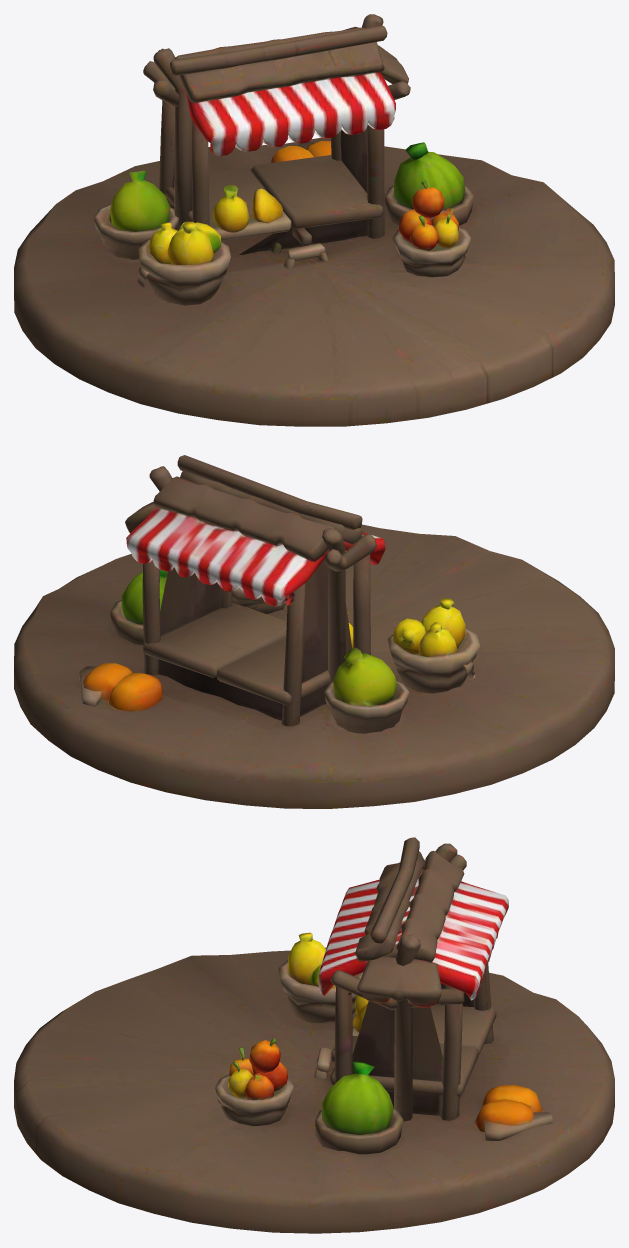
File: base-bazaar.10c14816.glb
3 views of the same model, one above another, from view 1: azimuth 30°, elevation 25°; view 2: azimuth 150°, elevation 25°; view 3: azimuth 270°, elevation 25° (orthographic).
Parts seen in each view (by area): view 1: tripo_node_353760da-9e7a-4d4c-81be-2a784ef13b8a; view 2: tripo_node_353760da-9e7a-4d4c-81be-2a784ef13b8a; view 3: tripo_node_353760da-9e7a-4d4c-81be-2a784ef13b8a.
Part boxes in pixels (box(x1,y1,x2,y2)): tripo_node_353760da-9e7a-4d4c-81be-2a784ef13b8a: box(14, 14, 614, 426); tripo_node_353760da-9e7a-4d4c-81be-2a784ef13b8a: box(14, 455, 614, 808); tripo_node_353760da-9e7a-4d4c-81be-2a784ef13b8a: box(14, 837, 614, 1233).
Bounding box in the file's own units: 0.998 × 0.4121 × 0.998.
Materials: 1 (1 with a texture image).
